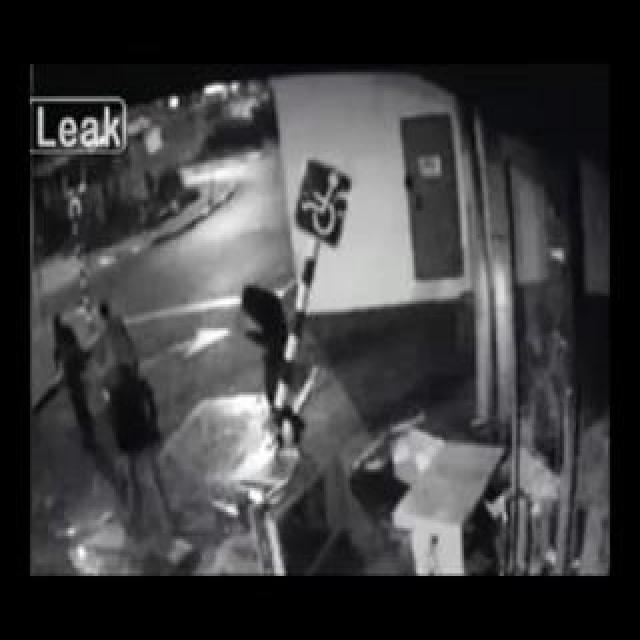thief: (41, 298, 132, 447), (240, 269, 271, 354)
